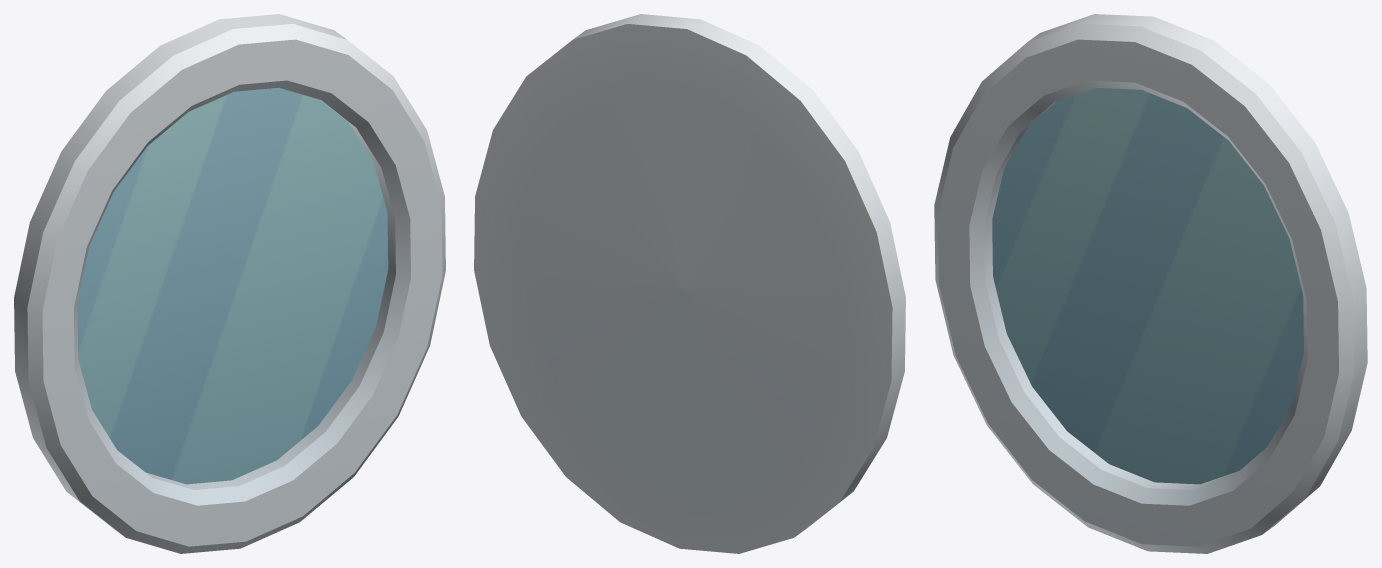
File: Mirror.glb
3 renders of one model, left to right at view 1: azimuth 30°, elevation 25°; view 2: azimuth 150°, elevation 25°; view 3: azimuth 330°, elevation 25°, orthographic.
Parts seen in each view (by area): view 1: mirror; view 2: mirror; view 3: mirror.
Boxes of the visible parts, x1=… form: mirror: x1=14, y1=14, x2=445, y2=553; mirror: x1=474, y1=14, x2=905, y2=553; mirror: x1=934, y1=14, x2=1367, y2=553.
Size of the model in its own units: 1.26 by 1.5 by 0.1.
Materials: 1 (1 with a texture image).
